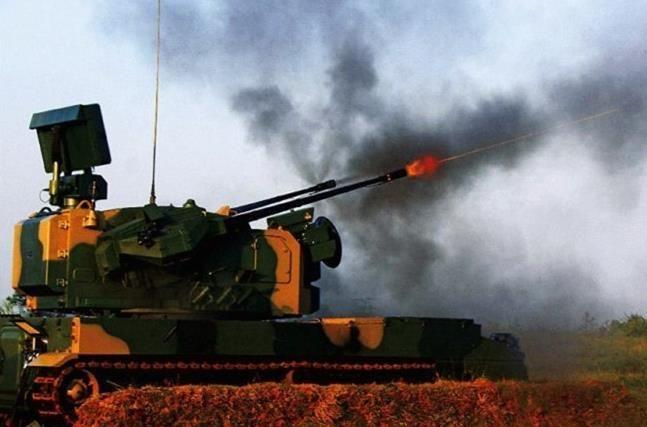MIL_SPG: (0, 105, 527, 424)
